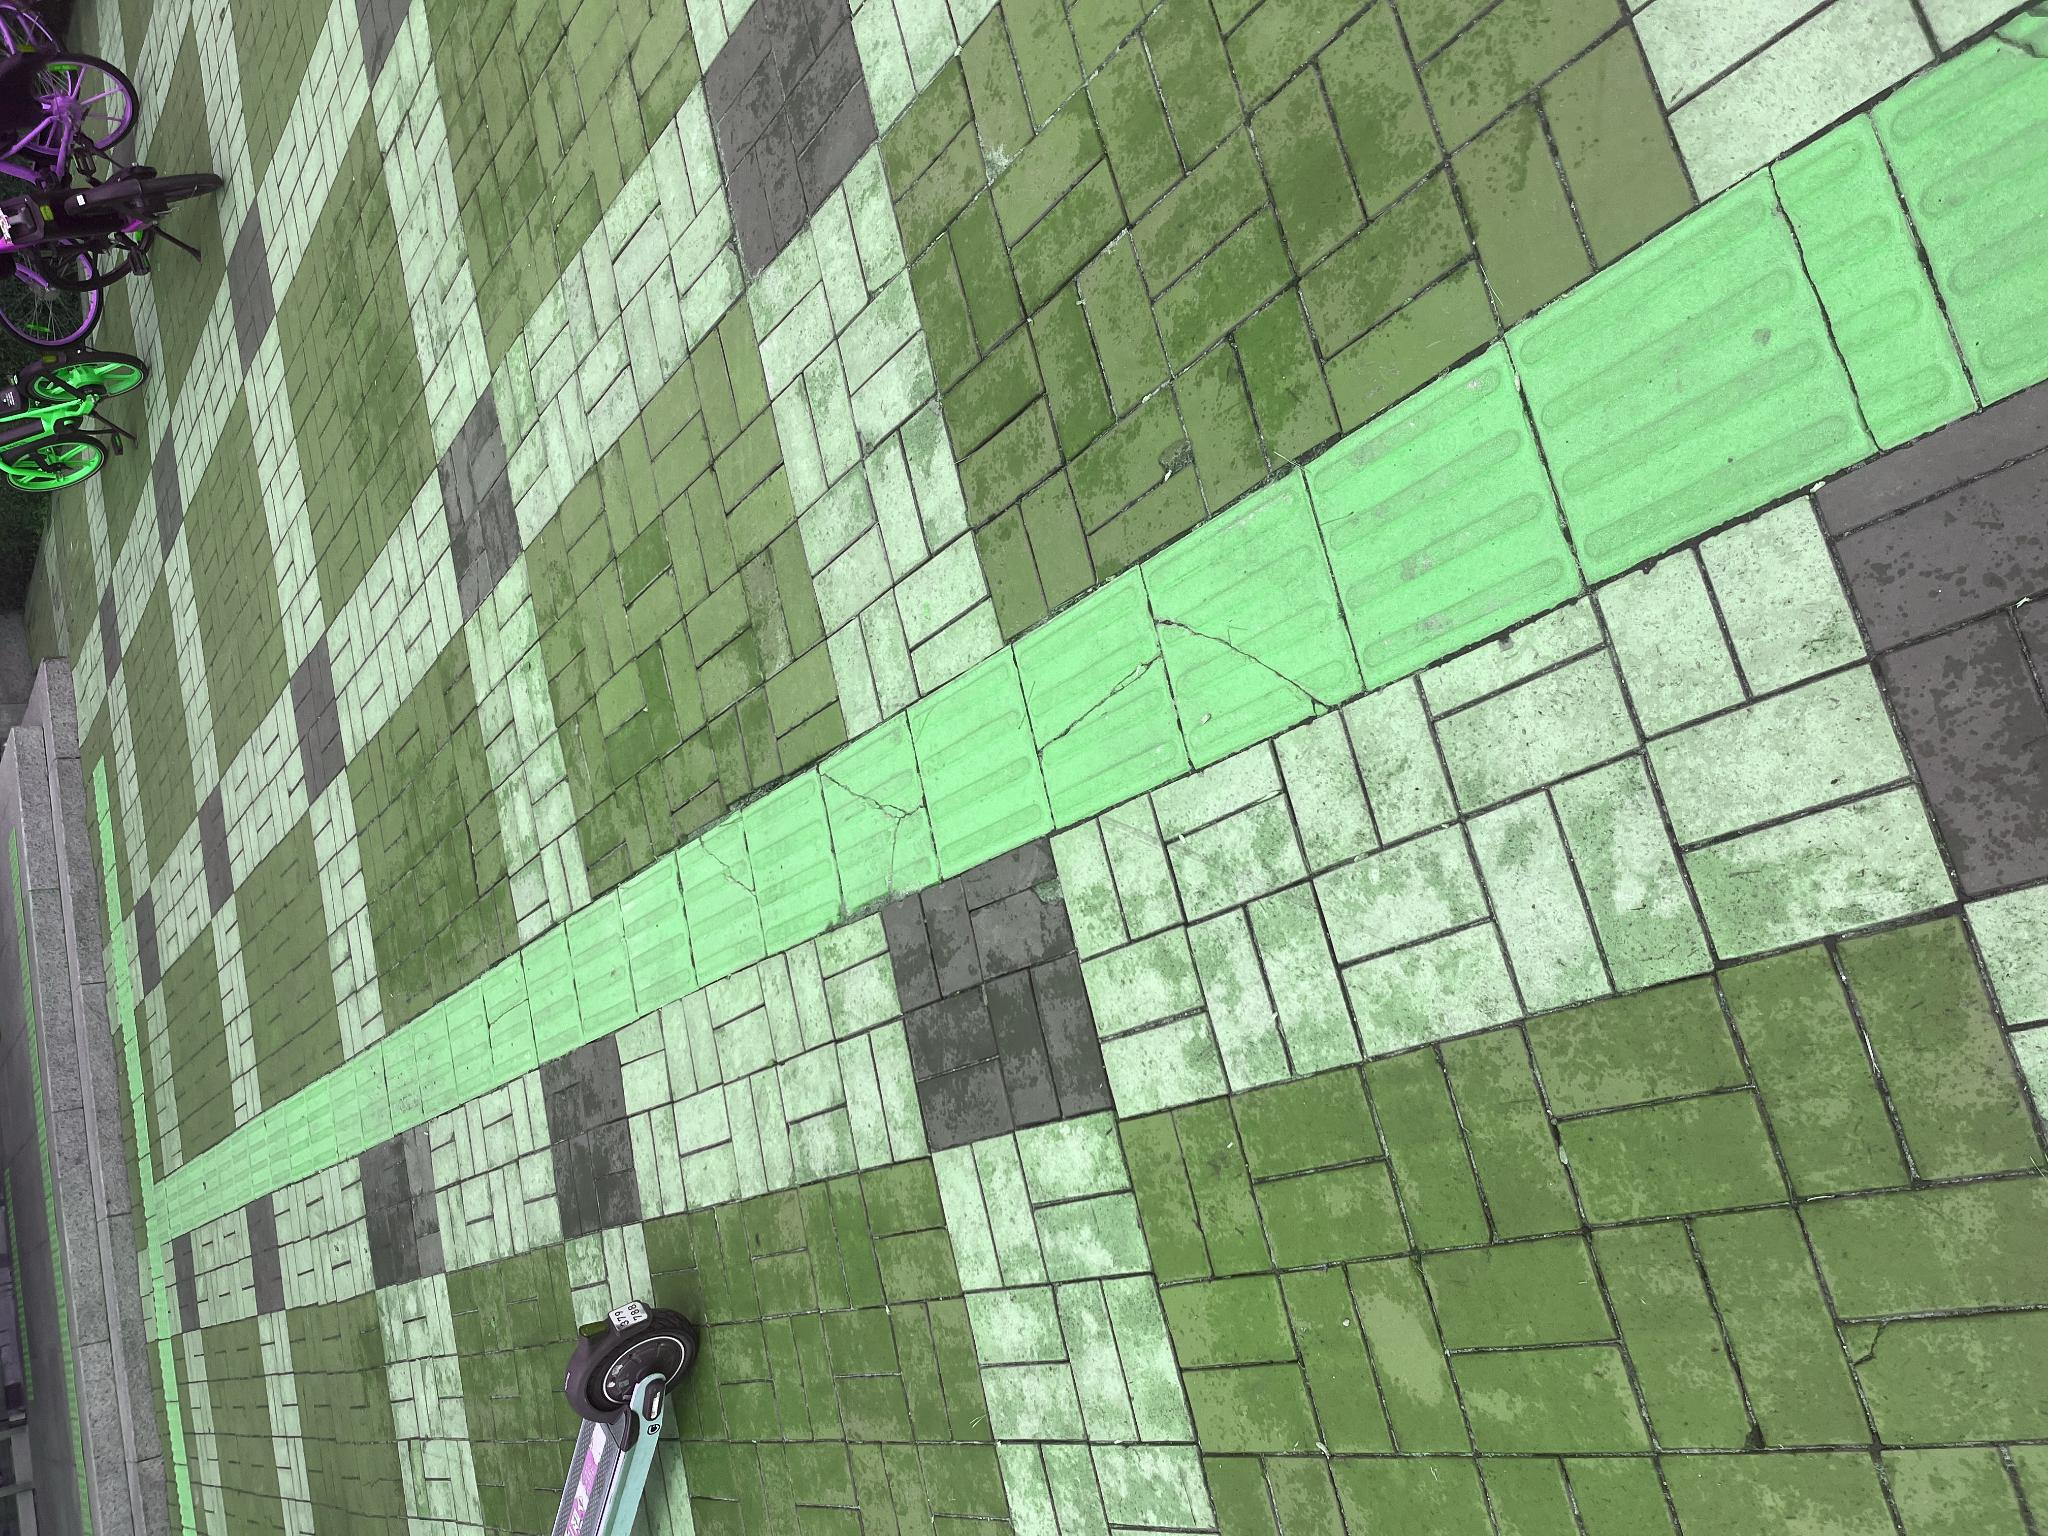Straight block broken: (766, 1141, 1069, 1363), (707, 1014, 970, 1189), (618, 818, 823, 940), (548, 677, 725, 765)
Straight block normal: (847, 1304, 1193, 1536), (660, 907, 886, 1049), (581, 741, 769, 846), (522, 618, 681, 696), (493, 567, 646, 638)
